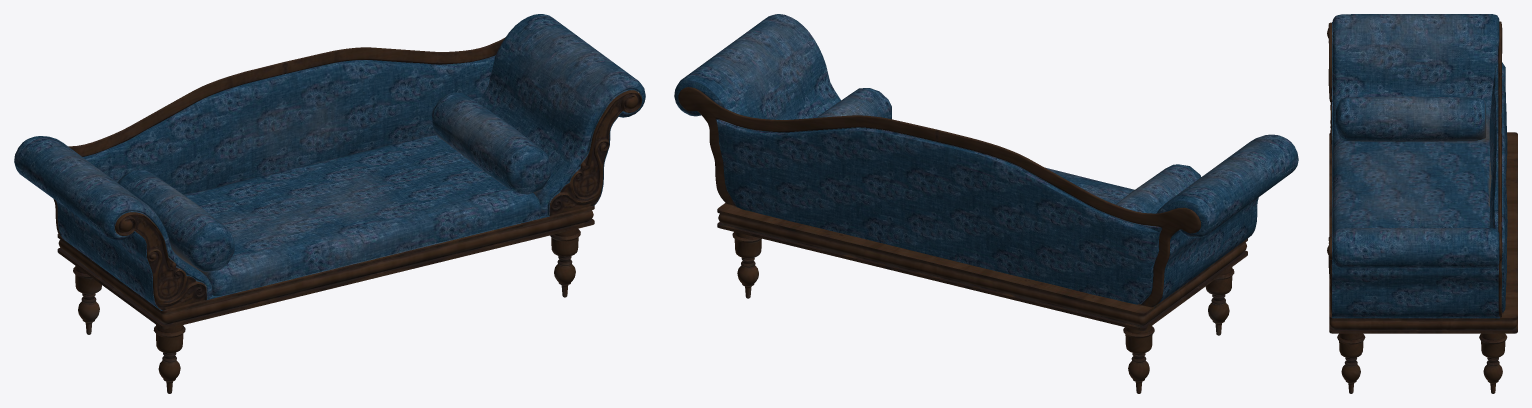
Rendered from victorian-style-sofa.glb.
The picture shows the model from 3 angles, left to right: view 1: azimuth 30°, elevation 25°; view 2: azimuth 150°, elevation 25°; view 3: azimuth 270°, elevation 25°; orthographic projection. The views are drawn at different scales.
Parts seen in each view (by area): view 1: Big_Sofa2; view 2: Big_Sofa2; view 3: Big_Sofa2.
Boxes of the visible parts, x1=… form: Big_Sofa2: x1=14, y1=14, x2=645, y2=393; Big_Sofa2: x1=674, y1=14, x2=1298, y2=393; Big_Sofa2: x1=1327, y1=14, x2=1517, y2=393.
Bounding box in the file's own units: 2.18 × 0.8468 × 0.7532.
Materials: 1 (1 with a texture image).
